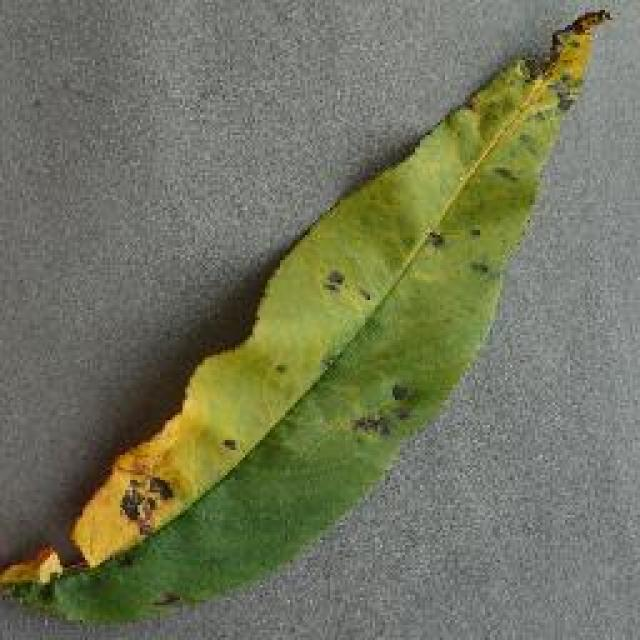Peach_Bacterial_Spot: (138, 370, 470, 493)
